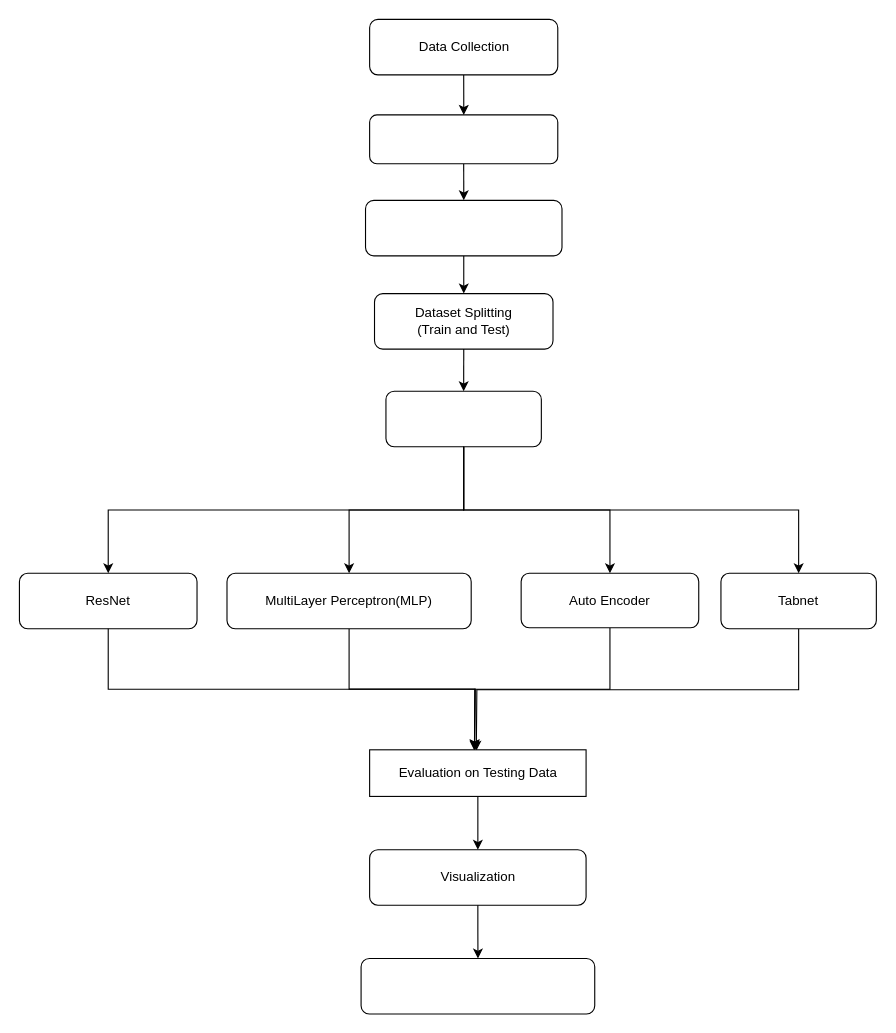
Some shapes in this 896 by 1033 pixel diagram are drawn without their labels. Here are the shapes that lost their labels. From the top down, the box of each, then its label:
(369, 114, 558, 164): Data Preprocessing
(364, 199, 562, 256): Feature Selection and Target Identification
(385, 390, 541, 447): Model Building
(360, 957, 595, 1014): Best Model Selection(Tabnet chosen)
